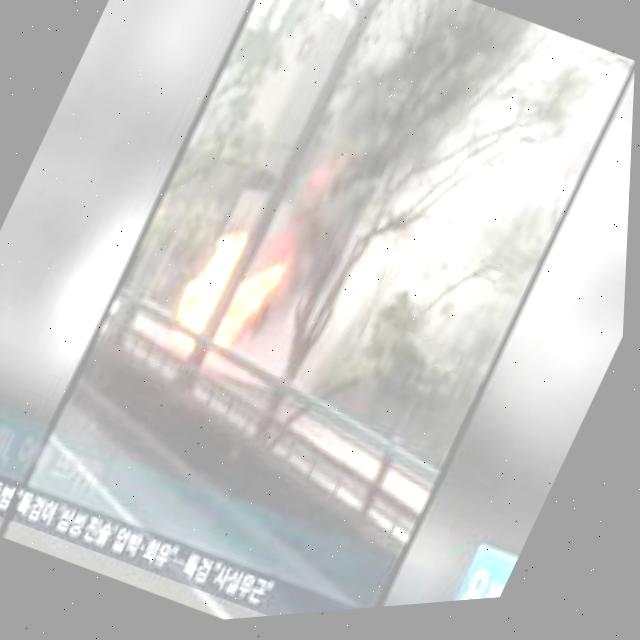Fire: (151, 234, 297, 386)
Smoke: (265, 0, 637, 454)
